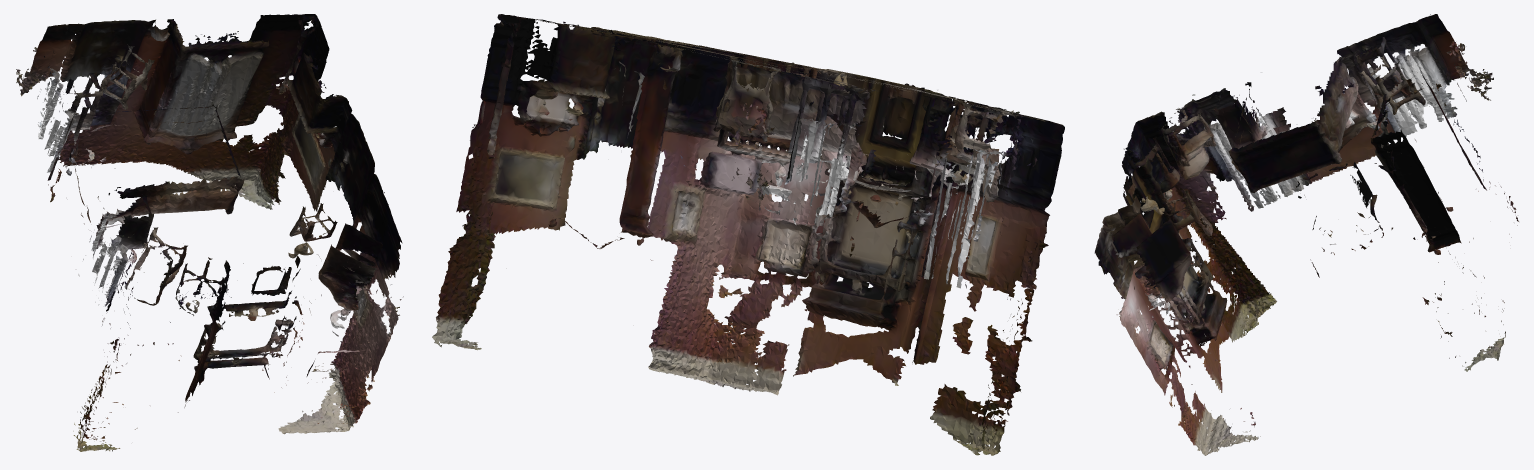
File: recorded-rgbd-preview.glb
3 renders of one model, left to right at view 1: azimuth 30°, elevation 25°; view 2: azimuth 150°, elevation 25°; view 3: azimuth 270°, elevation 25°, orthographic. The views are drawn at different scales.
Visible parts, largest first — view 1: world; view 2: world; view 3: world.
Boxes of the visible parts, x1,y1,x2,y2 form: world: (16,14,403,451); world: (432,14,1064,455); world: (1094,14,1518,455).
Size of the model in its own units: 5.99 by 6.43 by 6.99.
